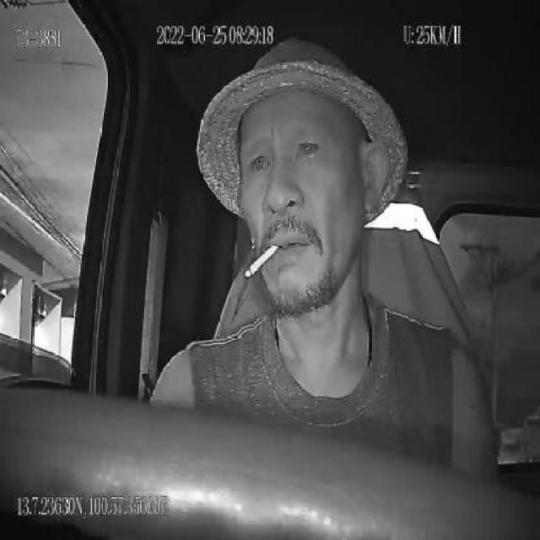smoking: (245, 241, 280, 280)
